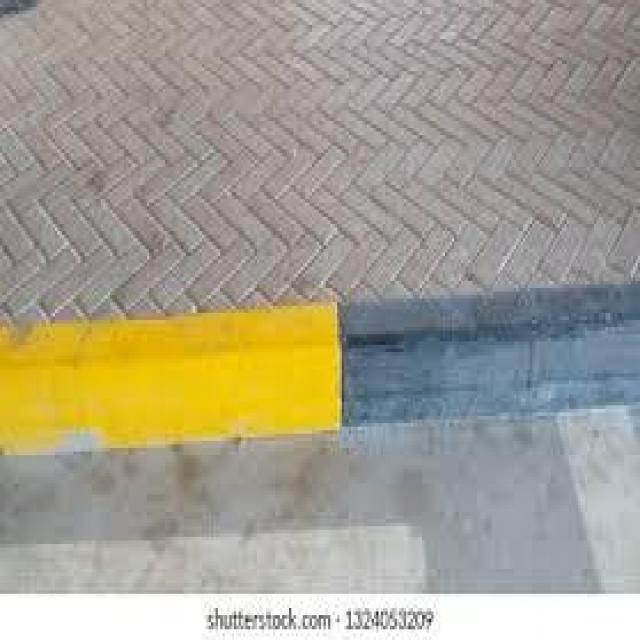curb: (6, 270, 638, 459)
